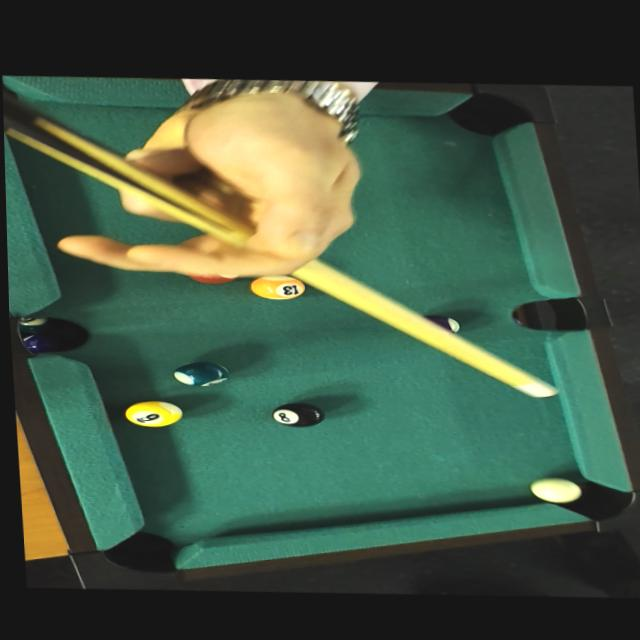cue ball: (519, 469, 593, 509)
other: (244, 271, 314, 304), (119, 397, 189, 430), (262, 397, 334, 429), (168, 358, 230, 389)
